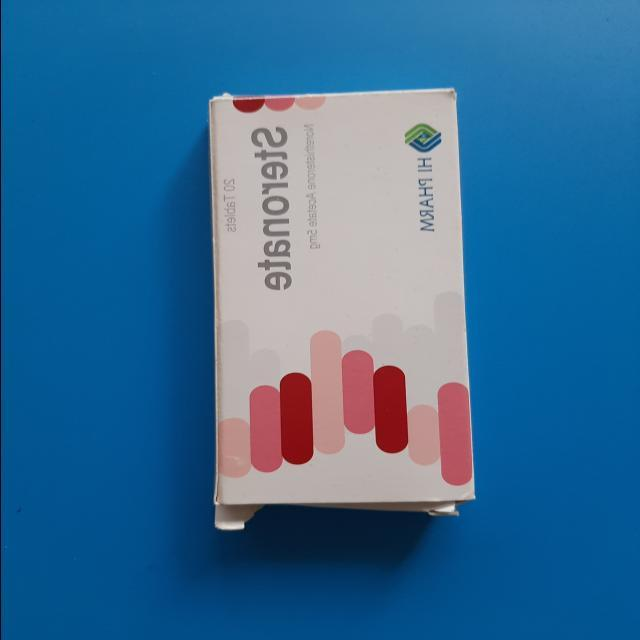Medicine Name: (243, 123, 297, 296)
